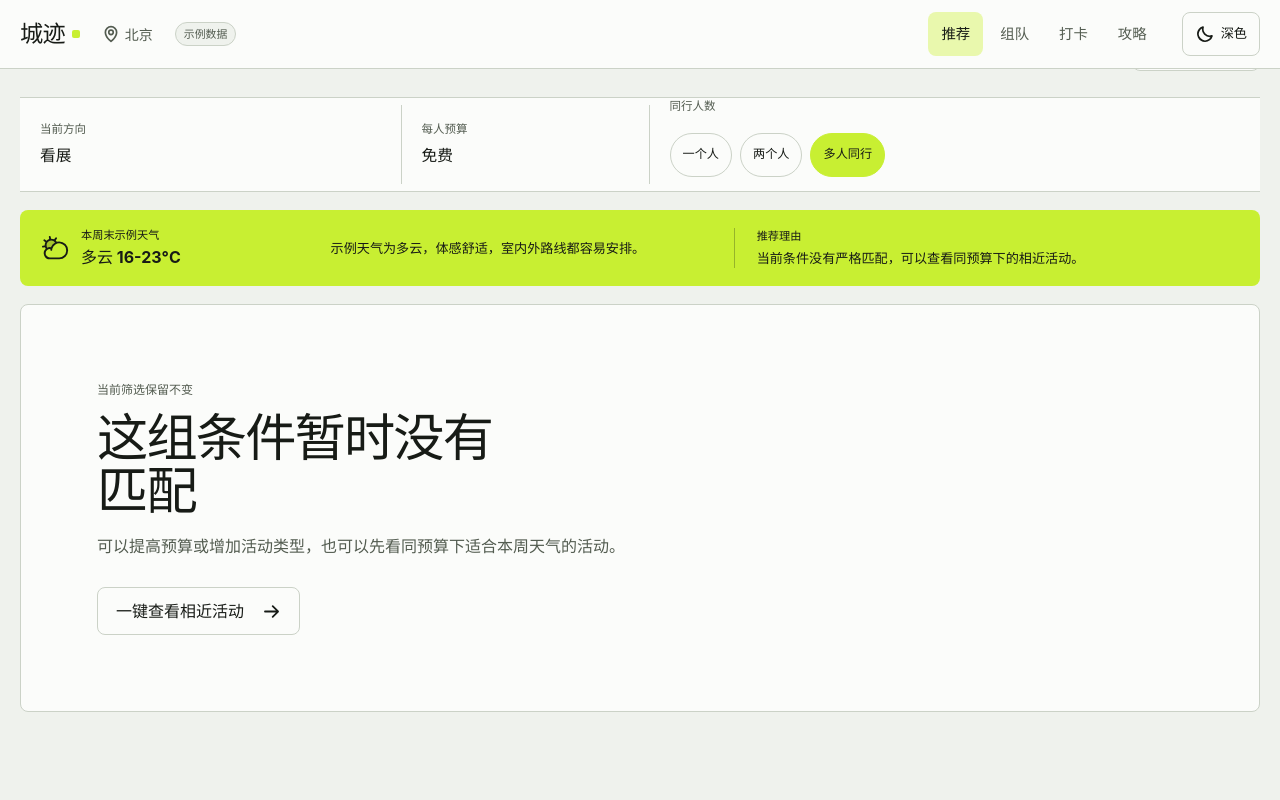
offers nearby matches without changing empty-result preferences
(page scrolled)
Expected: the heading "这组条件暂时没有匹配" is shown, [97,411,517,517]
Click the button "一键查看相近活动" at {"x": 198, "y": 611}, box [97,587,300,635]
(page scrolled)
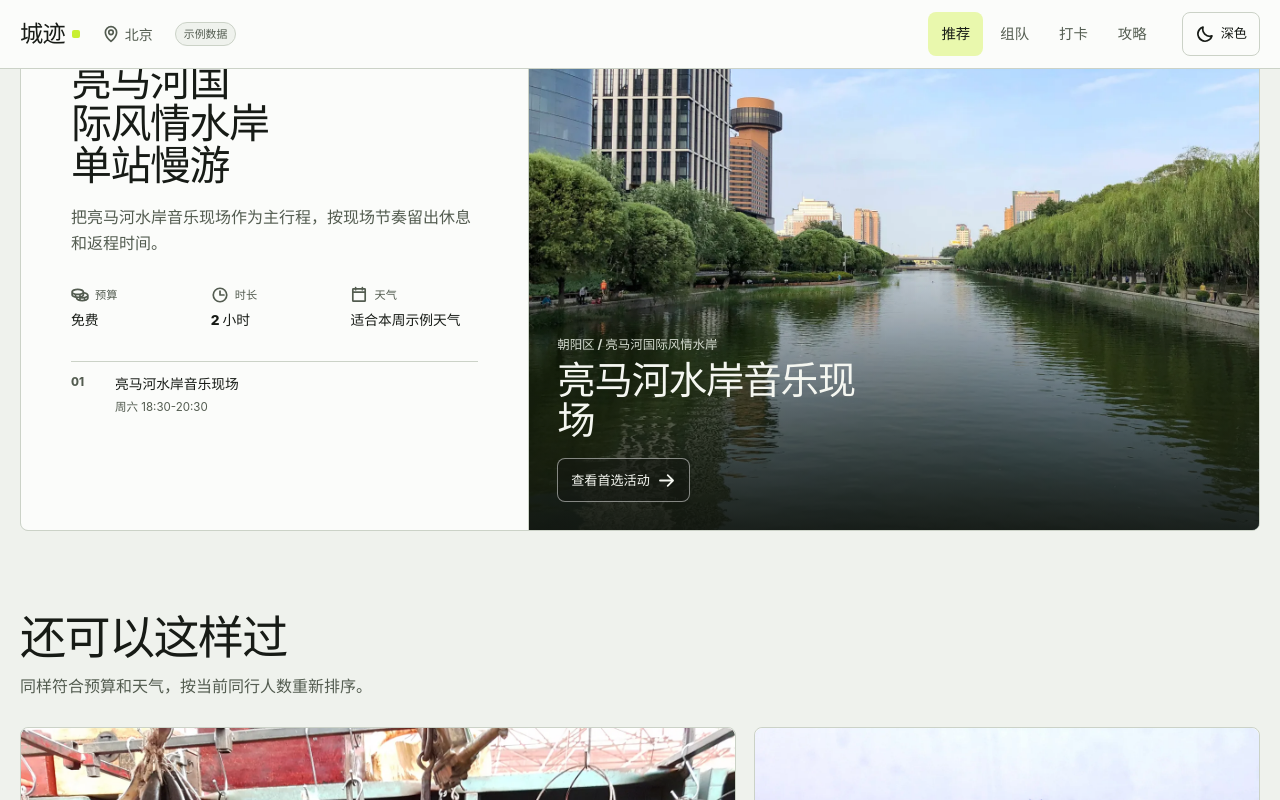
Now the heading "亮马河水岸音乐现场" is shown, box [557,361,872,440]
